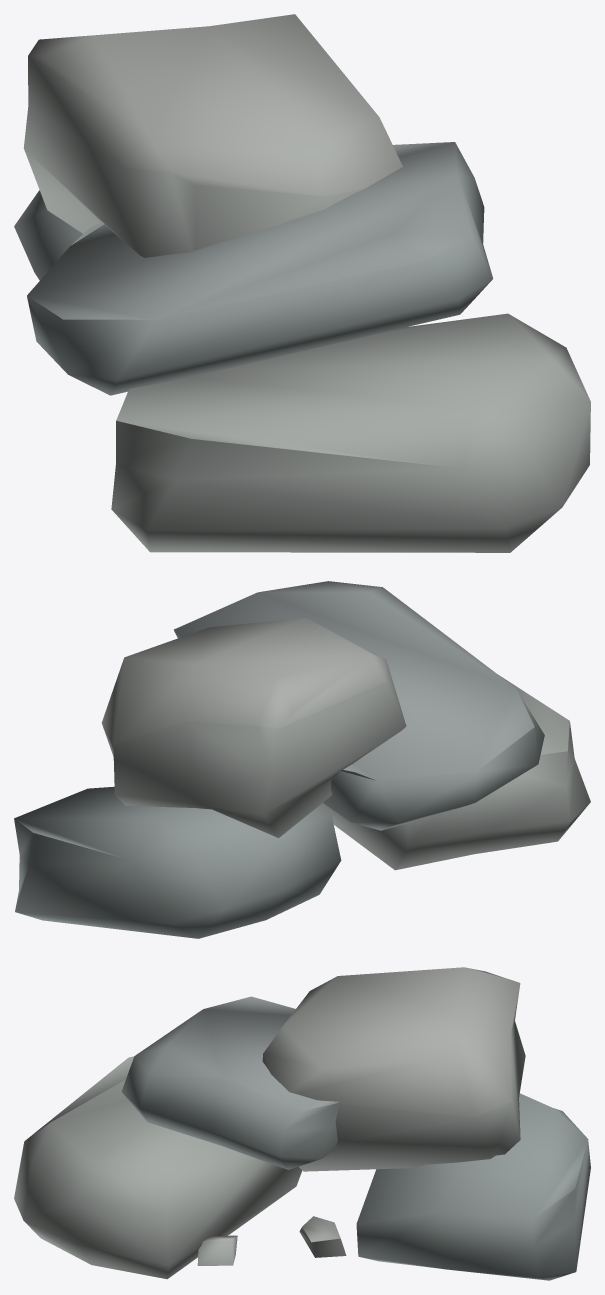
The model's file is Rock_02.fbx.
The picture shows the model from 3 angles, top to bottom: view 1: azimuth 30°, elevation 25°; view 2: azimuth 150°, elevation 25°; view 3: azimuth 270°, elevation 25°; orthographic projection. The views are drawn at different scales.
Parts seen in each view (by area): view 1: Rock_02; view 2: Rock_02; view 3: Rock_02.
Part boxes in pixels (box(x1,y1,x2,y2)): Rock_02: box(14, 14, 590, 552); Rock_02: box(14, 581, 590, 938); Rock_02: box(14, 967, 590, 1280).
Size of the model in its own units: 0.8557 by 0.5813 by 1.29.
